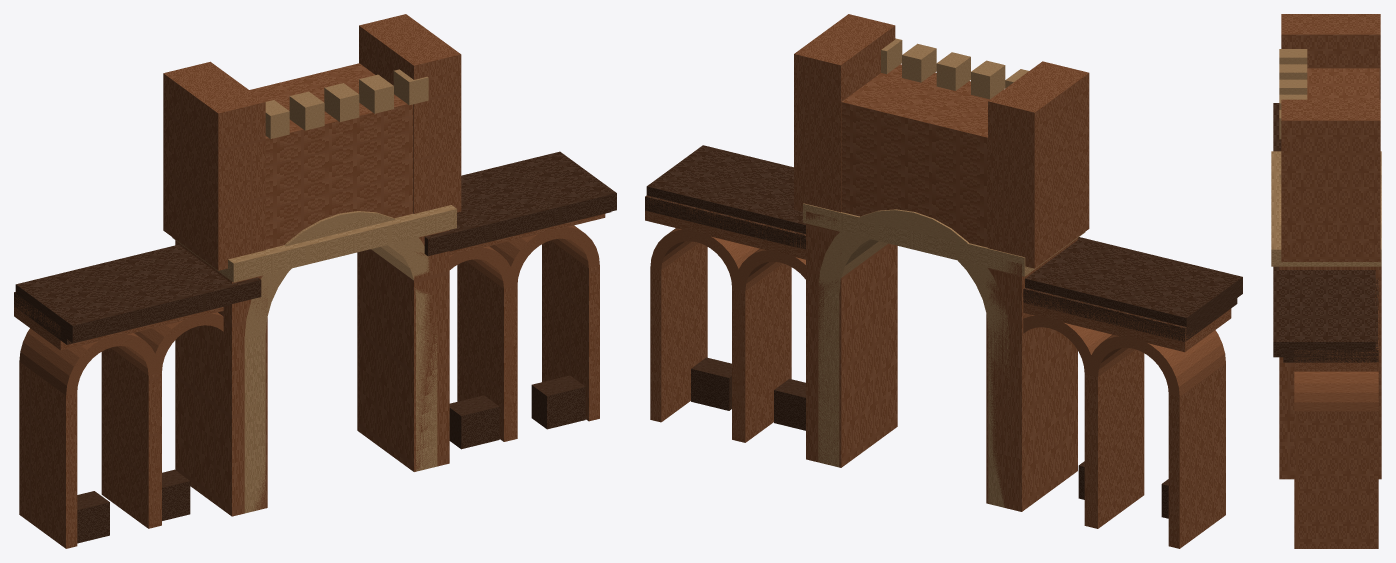
The model's file is Berber_market_age02_0_3_1_courtyard_kit.fbx.
3 views of the same model, side by side, from view 1: azimuth 30°, elevation 25°; view 2: azimuth 150°, elevation 25°; view 3: azimuth 270°, elevation 25° (orthographic). The views are drawn at different scales.
Visible parts, largest first — view 1: left courtyard arcade bay 1, Portal left lookout tower, Portal upper mass, Portal right buttress, Portal left buttress, left pitched timber awning, right courtyard arcade bay 2, Portal deep horseshoe gate, Portal right lookout tower, right pitched timber awning, right courtyard arcade bay 1, Gate carved lintel (+13 smaller); view 2: left courtyard arcade bay 1, Portal upper mass, Portal left lookout tower, Portal left buttress, Portal right buttress, right courtyard arcade bay 2, Portal right lookout tower, left pitched timber awning, Portal deep horseshoe gate, right courtyard arcade bay 1, right pitched timber awning, Gate carved lintel (+10 smaller); view 3: Portal right lookout tower, right courtyard arcade bay 2, right pitched timber awning, Portal left lookout tower, Portal right buttress, Portal upper mass, Gate carved lintel, right cedar shade beam, right continuous arcade parapet, Portal crenellation 2, Portal crenellation 1, Portal crenellation 3 (+3 smaller).
Boxes of the visible parts, x1=… form: left courtyard arcade bay 1: x1=19, y1=328, x2=159, y2=548; Portal left lookout tower: x1=163, y1=61, x2=265, y2=270; Portal upper mass: x1=249, y1=63, x2=413, y2=249; Portal right buttress: x1=357, y1=230, x2=449, y2=471; Portal left buttress: x1=175, y1=240, x2=267, y2=516; left pitched timber awning: x1=15, y1=244, x2=261, y2=342; right courtyard arcade bay 2: x1=489, y1=225, x2=599, y2=441; Portal deep horseshoe gate: x1=244, y1=211, x2=437, y2=513; Portal right lookout tower: x1=359, y1=14, x2=461, y2=213; right pitched timber awning: x1=424, y1=151, x2=616, y2=256; right courtyard arcade bay 1: x1=449, y1=246, x2=514, y2=441; Gate carved lintel: x1=172, y1=205, x2=456, y2=282; left courtyard arcade bay 1: x1=1087, y1=330, x2=1225, y2=548; Portal upper mass: x1=841, y1=64, x2=1003, y2=247; Portal left lookout tower: x1=988, y1=61, x2=1089, y2=268; Portal left buttress: x1=986, y1=238, x2=1077, y2=511; Portal right buttress: x1=806, y1=211, x2=897, y2=467; right courtyard arcade bay 2: x1=650, y1=228, x2=759, y2=440; Portal right lookout tower: x1=794, y1=14, x2=895, y2=212; left pitched timber awning: x1=1025, y1=237, x2=1242, y2=334; Portal deep horseshoe gate: x1=818, y1=209, x2=1009, y2=507; right courtyard arcade bay 1: x1=734, y1=248, x2=805, y2=442; right pitched timber awning: x1=646, y1=145, x2=805, y2=233; Gate carved lintel: x1=803, y1=203, x2=1085, y2=276; Portal right lookout tower: x1=1281, y1=99, x2=1380, y2=261; right courtyard arcade bay 2: x1=1294, y1=371, x2=1378, y2=548; right pitched timber awning: x1=1273, y1=266, x2=1375, y2=357; Portal left lookout tower: x1=1281, y1=14, x2=1380, y2=99; Portal right buttress: x1=1279, y1=266, x2=1381, y2=479; Portal upper mass: x1=1307, y1=68, x2=1379, y2=99; Gate carved lintel: x1=1271, y1=151, x2=1381, y2=266; right cedar shade beam: x1=1283, y1=278, x2=1378, y2=362; right continuous arcade parapet: x1=1294, y1=278, x2=1378, y2=371; Portal crenellation 2: x1=1279, y1=64, x2=1307, y2=79; Portal crenellation 1: x1=1279, y1=49, x2=1307, y2=64; Portal crenellation 3: x1=1279, y1=79, x2=1307, y2=94.
Size of the model in its own units: 565 by 402 by 110.
Materials: 3 (3 with a texture image).
